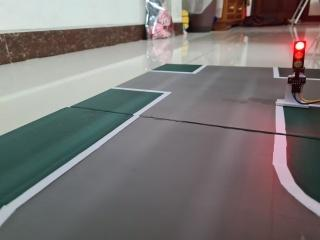red: (288, 33, 310, 86)
